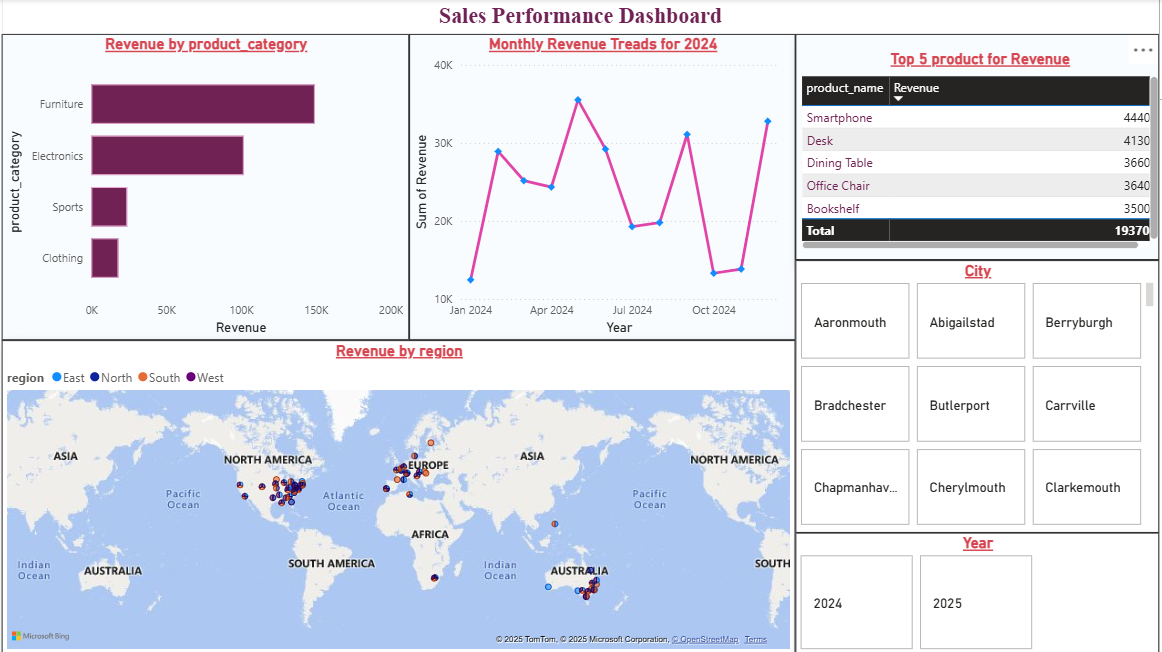

Layout of this report page (visuals, bound fields, positions):
{"tool":"powerbi","page":{"name":"Page 1","canvas":[1280,720],"ordinal":0},"visuals":[{"type":"barChart","fields":{"Category":["Sheet1.category"],"Y":["Sum(Sheet1.Revenue)"]},"box":[9.6,0,447.3,374.6],"z":0},{"type":"map","title":"Revenue by region","fields":{"Category":["Sheet1.Revenue"],"Series":["Sheet1.region"]},"box":[9.6,374.6,871.4,345.8],"z":1000},{"type":"lineChart","title":"Monthly Revenue Treads for 2024","fields":{"Category":["Sheet1.sale_date.Variation.Date Hierarchy.Year","Sheet1.sale_date.Variation.Date Hierarchy.Month"],"Y":["Sum(Sheet1.Revenue)"]},"box":[456.9,0,424,374.6],"z":2000},{"type":"tableEx","title":"Top 5 product for Revenue","fields":{"Values":["Sheet1.product_name","Sum(Sheet1.Revenue)"]},"box":[881,0,399.3,286.8],"z":3000},{"type":"advancedSlicerVisual","fields":{"Values":["Sheet1.sale_date.Variation.Date Hierarchy.Year"]},"box":[881,585.9,399.3,134.5],"z":5000},{"type":"advancedSlicerVisual","title":"City","fields":{"Values":["Sheet1.city"]},"box":[881,286.8,399.3,299.1],"z":6000}]}

Visuals, with their boxes in screenshot pixels (x1, y1, x2, y2), scaled from the page's 1280x720 canvas onto the 1162x652 screenshot:
barChart - Sheet1.category x Sum(Sheet1.Revenue): bbox=(9, 0, 415, 339)
"Revenue by region" map: bbox=(9, 339, 800, 651)
"Monthly Revenue Treads for 2024" lineChart: bbox=(415, 0, 800, 339)
"Top 5 product for Revenue" tableEx: bbox=(800, 0, 1161, 260)
advancedSlicerVisual - Sheet1.sale_date.Variation.Date Hierarchy.Year: bbox=(800, 531, 1161, 651)
"City" advancedSlicerVisual: bbox=(800, 260, 1161, 531)
